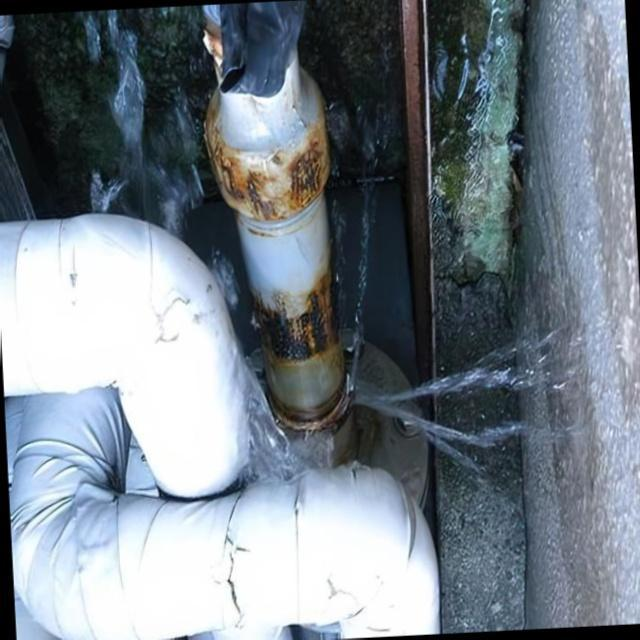pipe burst: (335, 335, 568, 462)
